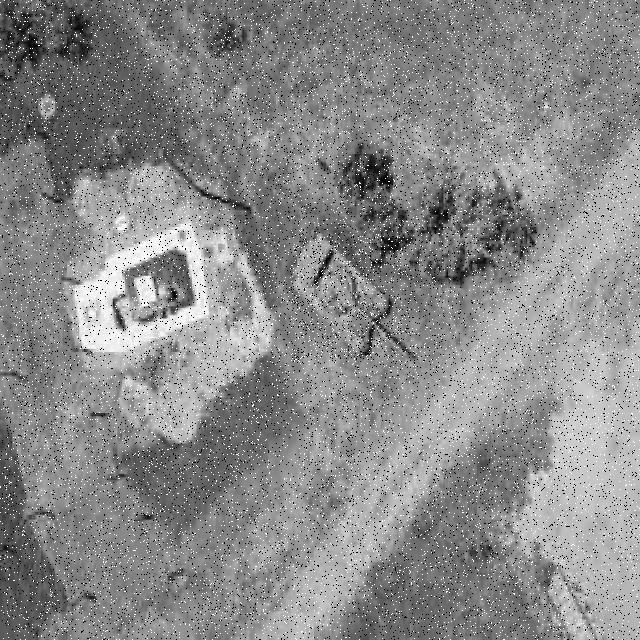MIL_MBT: (293, 235, 411, 362)
